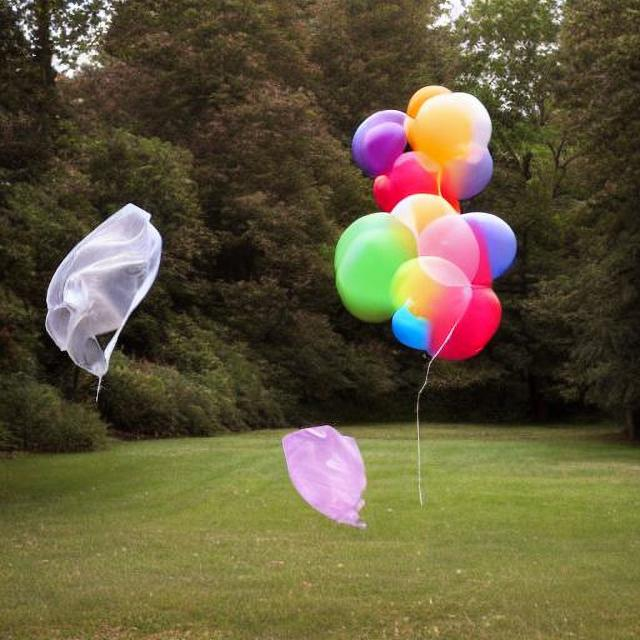balloon: (323, 91, 538, 375)
plastic bag: (44, 202, 164, 376), (276, 421, 384, 554)
